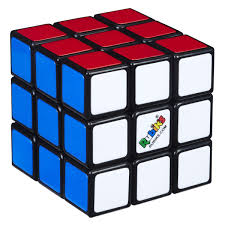rubik_cube: (7, 4, 218, 220)
